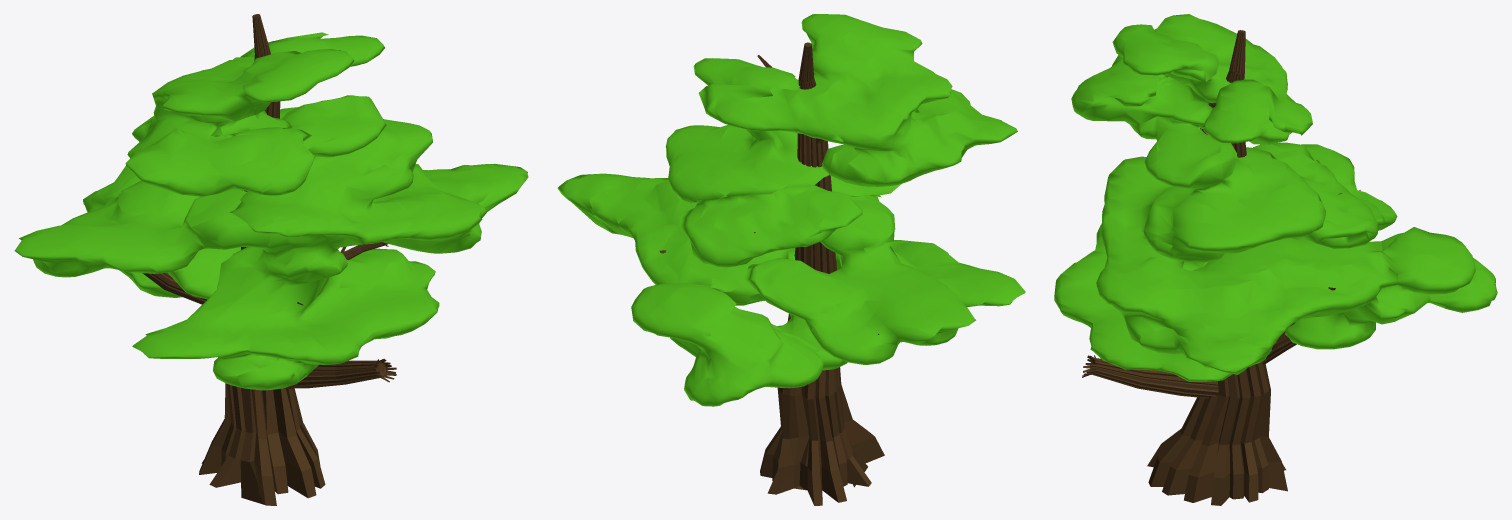
File: Tree.fbx
3 renders of one model, left to right at view 1: azimuth 30°, elevation 25°; view 2: azimuth 150°, elevation 25°; view 3: azimuth 270°, elevation 25°, orthographic. The views are drawn at different scales.
Parts seen in each view (by area): view 1: Mball.056; view 2: Mball.056; view 3: Mball.056.
Part boxes in pixels (x1,y1,x2,y2): Mball.056: [14, 14, 528, 505]; Mball.056: [557, 14, 1025, 505]; Mball.056: [1054, 14, 1497, 505].
Bounding box in the file's own units: 2097 × 1994 × 1734.
